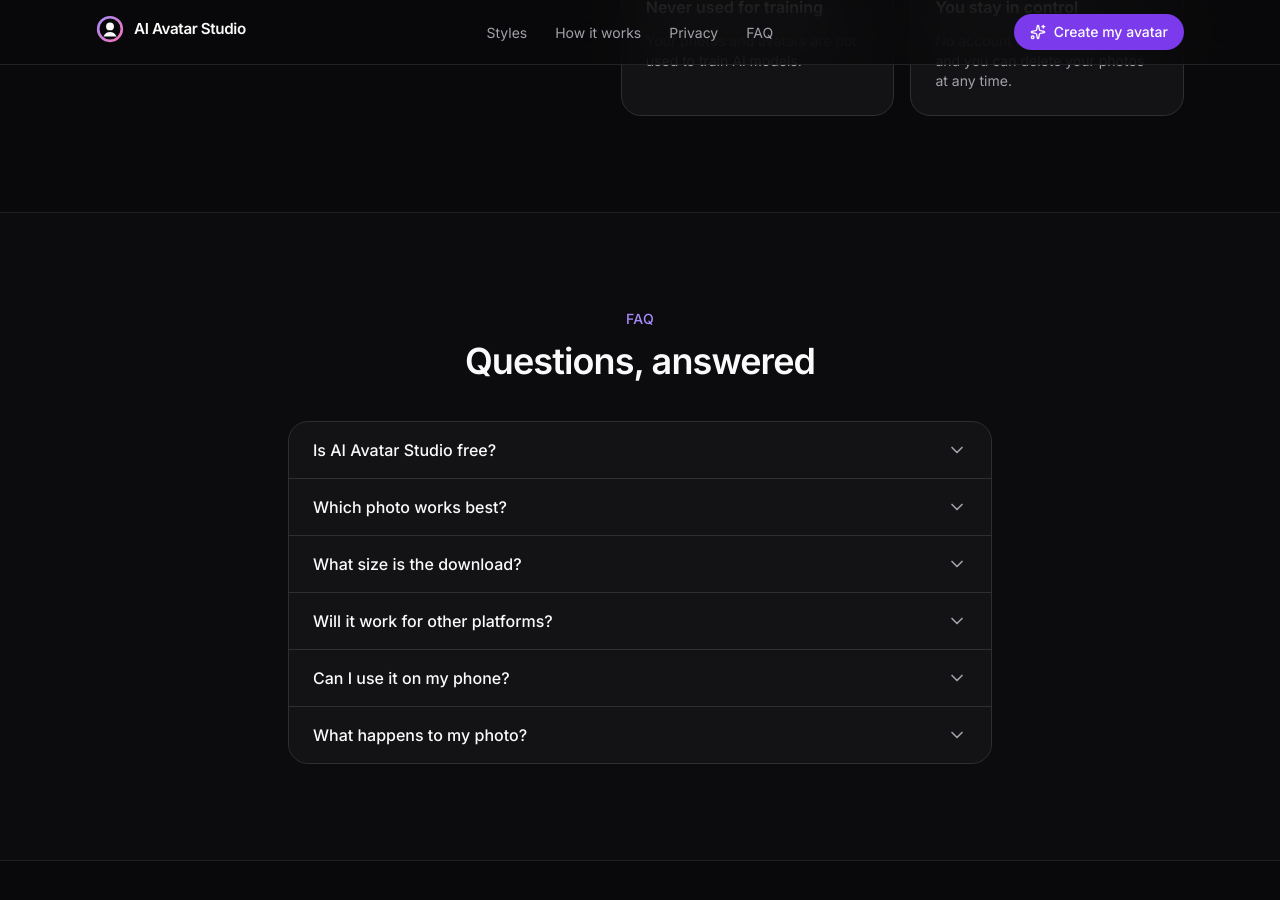
LandingPage › expands FAQ answers on demand
(page scrolled)
Step 1. Click the heading "Is AI Avatar Studio free?" → (405, 450), box [313, 440, 967, 460]
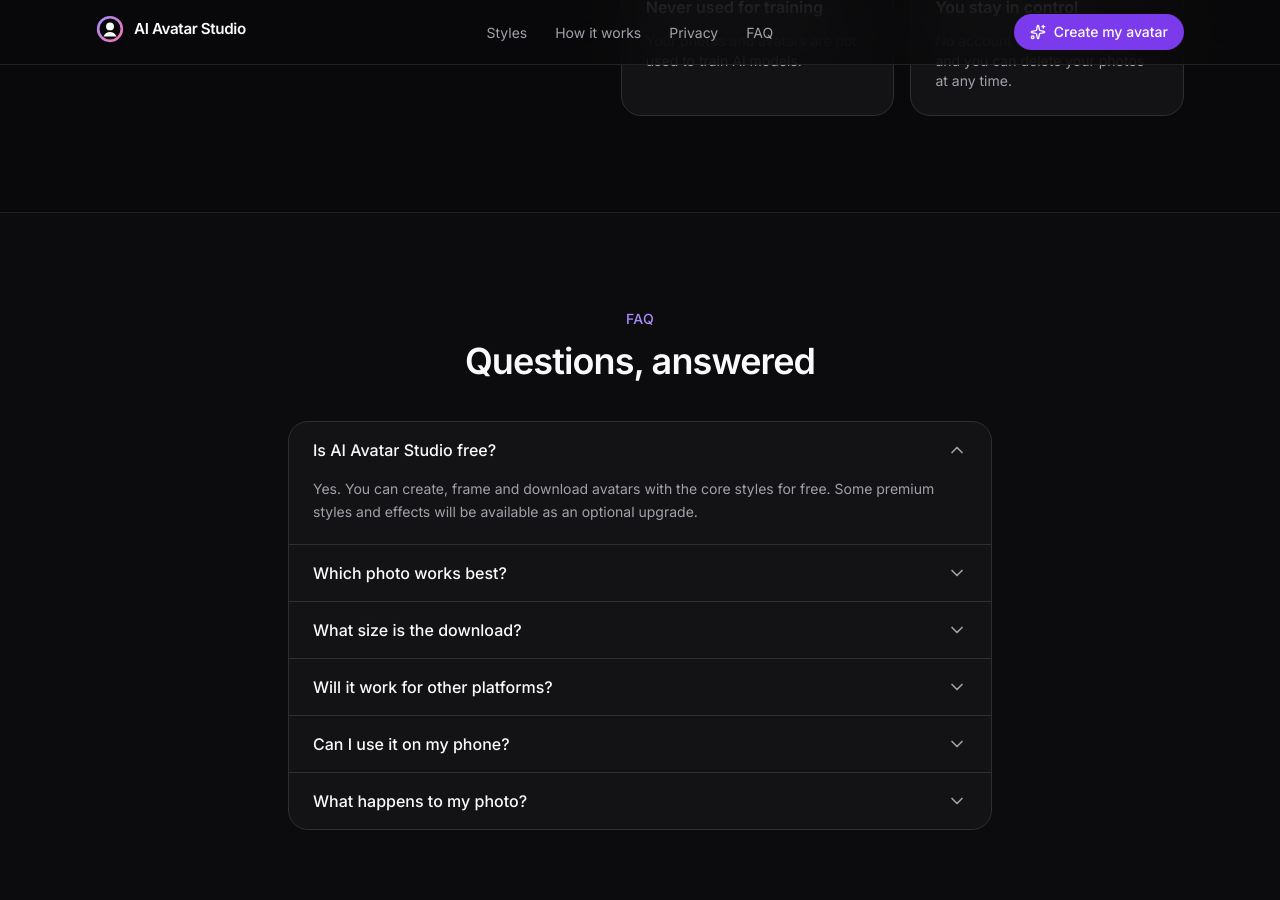
Expected: the text "Yes. You can create, frame and download avatars with the core styles for free. Some premium styles and effects will be a" is shown, [313, 480, 934, 520]
